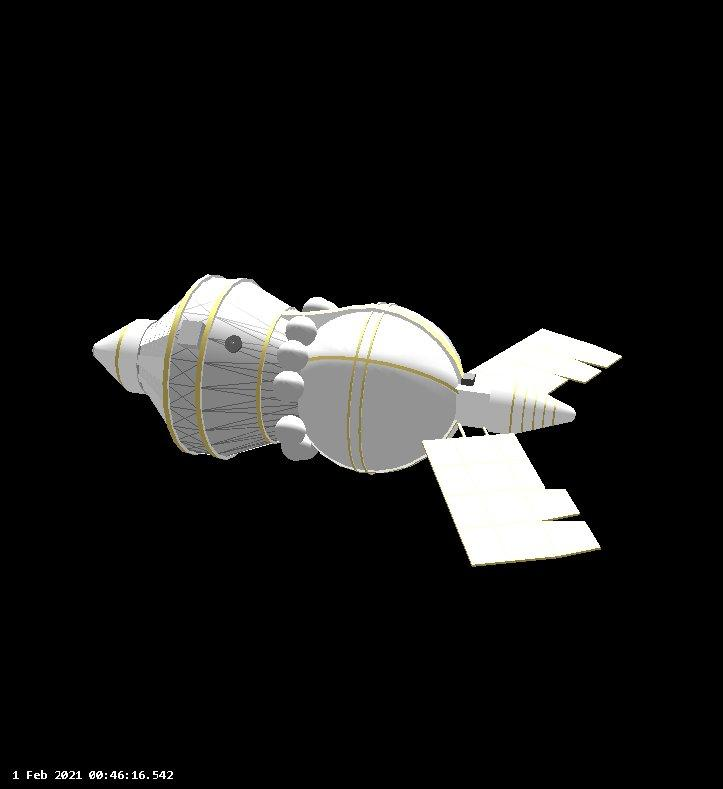antenna: (223, 333, 244, 355)
body: (90, 269, 579, 478)
solar: (422, 425, 605, 568), (453, 325, 624, 401)
